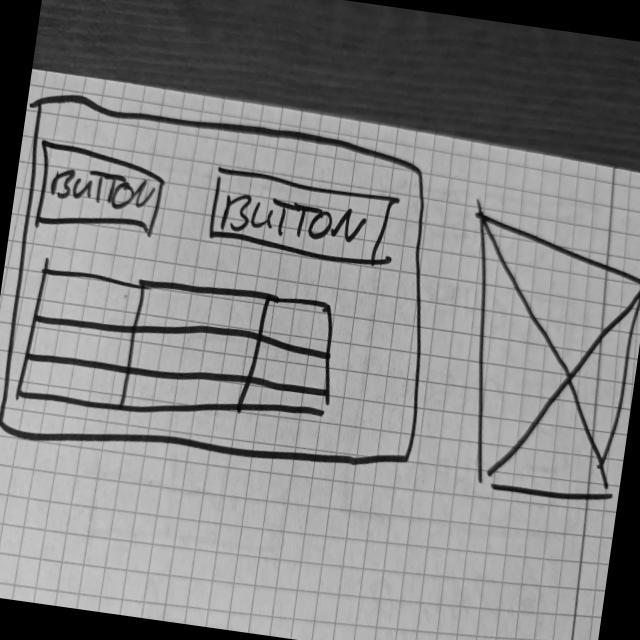button: (206, 167, 401, 275), (32, 139, 170, 245)
container: (1, 89, 458, 495)
image: (440, 211, 640, 513)
table: (16, 256, 350, 444)
